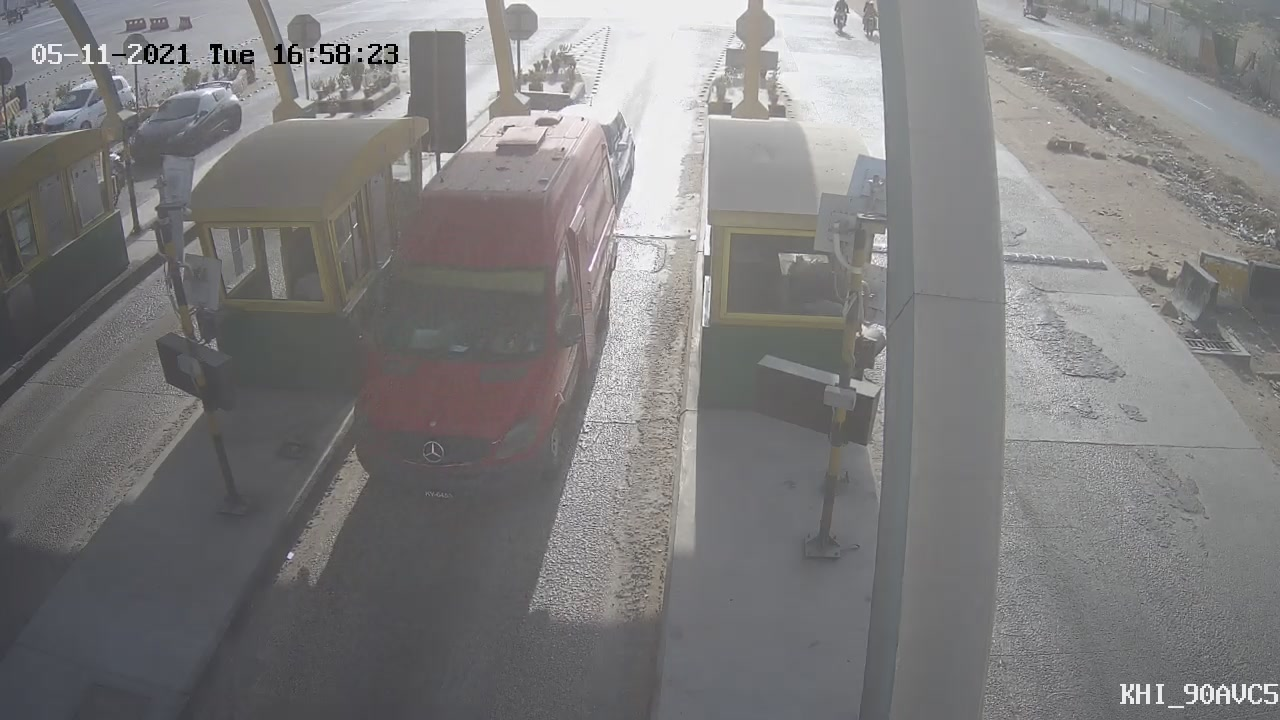F2: (325, 83, 627, 510)
